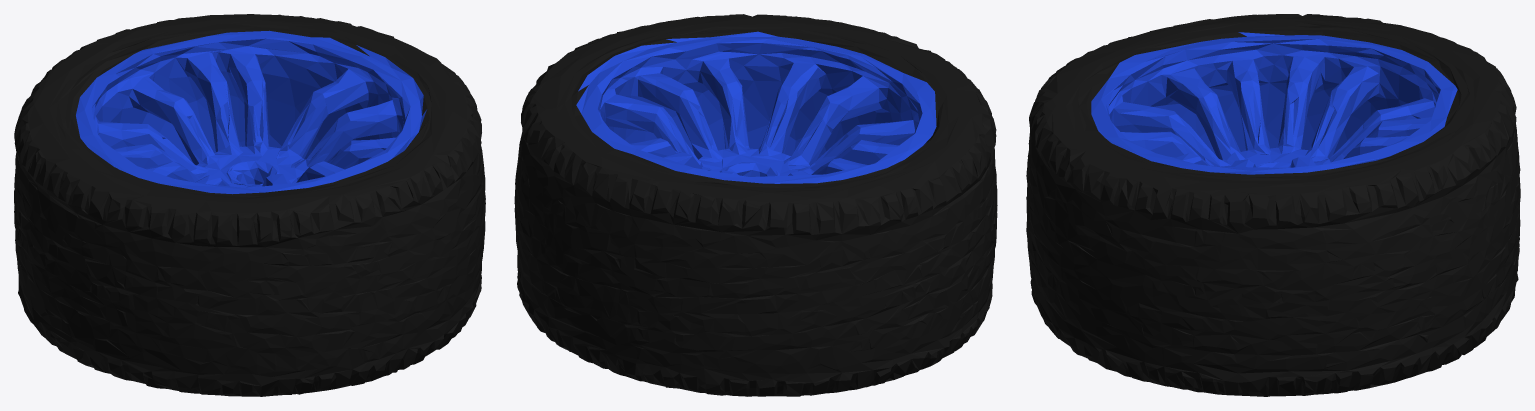
File: wheel_left.obj
3 views of the same model, side by side, from view 1: azimuth 30°, elevation 25°; view 2: azimuth 150°, elevation 25°; view 3: azimuth 270°, elevation 25° (orthographic). The views are drawn at different scales.
Visible parts, largest first — view 1: Pneumatico_nero, Cerchione_blu; view 2: Pneumatico_nero, Cerchione_blu; view 3: Pneumatico_nero, Cerchione_blu.
Part boxes in pixels (<box>): Pneumatico_nero: <box>14,14,485,396</box>; Cerchione_blu: <box>76,30,426,194</box>; Pneumatico_nero: <box>514,14,997,396</box>; Cerchione_blu: <box>576,31,936,183</box>; Pneumatico_nero: <box>1026,14,1520,396</box>; Cerchione_blu: <box>1091,32,1457,174</box>.
Size of the model in its own units: 6.87 by 3.27 by 6.87.
